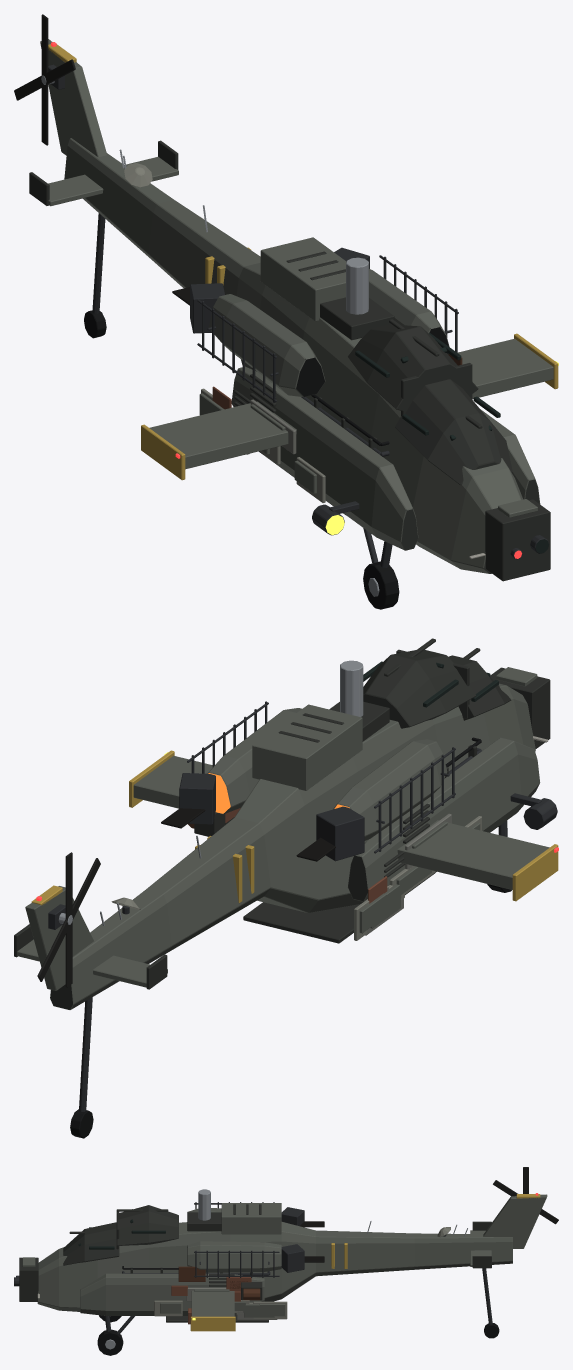
File: Chassis_Assault.fbx
The picture shows the model from 3 angles, top to bottom: view 1: azimuth 30°, elevation 25°; view 2: azimuth 150°, elevation 25°; view 3: azimuth 270°, elevation 25°; orthographic projection. The views are drawn at different scales.
Parts seen in each view (by area): view 1: Chassis_Assault; view 2: Chassis_Assault; view 3: Chassis_Assault.
Part boxes in pixels (left/top/right/bottom): Chassis_Assault: left=14, top=14, right=558, bottom=609; Chassis_Assault: left=14, top=638, right=558, bottom=1138; Chassis_Assault: left=14, top=1167, right=558, bottom=1355.
Bounding box in the file's own units: 5.62 × 4.26 × 12.72.
